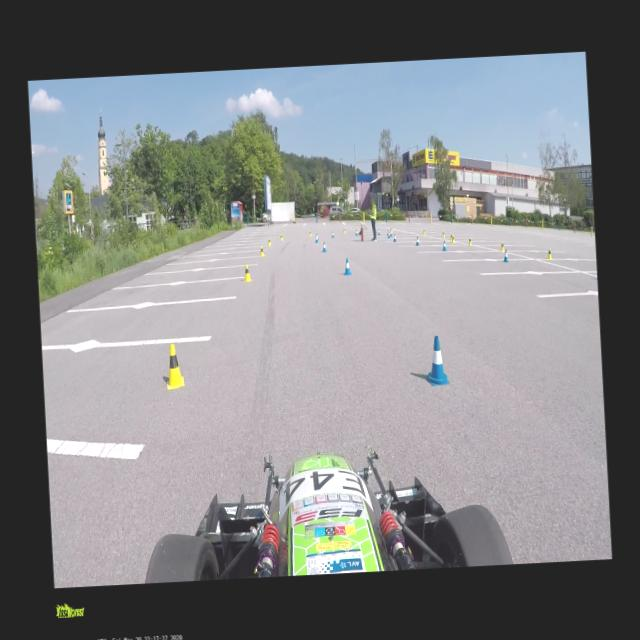blue_cone: (426, 335, 448, 384), (344, 258, 351, 276), (502, 248, 508, 262), (414, 236, 420, 247), (442, 240, 448, 251), (322, 241, 326, 252), (315, 235, 318, 242), (355, 229, 358, 236), (331, 231, 334, 238), (394, 234, 396, 242), (378, 228, 380, 236), (316, 232, 318, 240), (387, 229, 389, 236), (388, 232, 390, 238), (390, 230, 392, 236)
yellow_cone: (165, 343, 185, 388), (244, 264, 252, 281), (547, 248, 552, 260), (500, 241, 505, 252), (468, 236, 472, 246), (260, 246, 264, 256), (450, 232, 453, 242), (423, 228, 426, 236), (268, 238, 271, 245), (442, 230, 445, 237), (452, 235, 454, 243), (310, 230, 312, 237), (344, 228, 346, 234), (280, 234, 282, 240), (392, 226, 392, 232)
